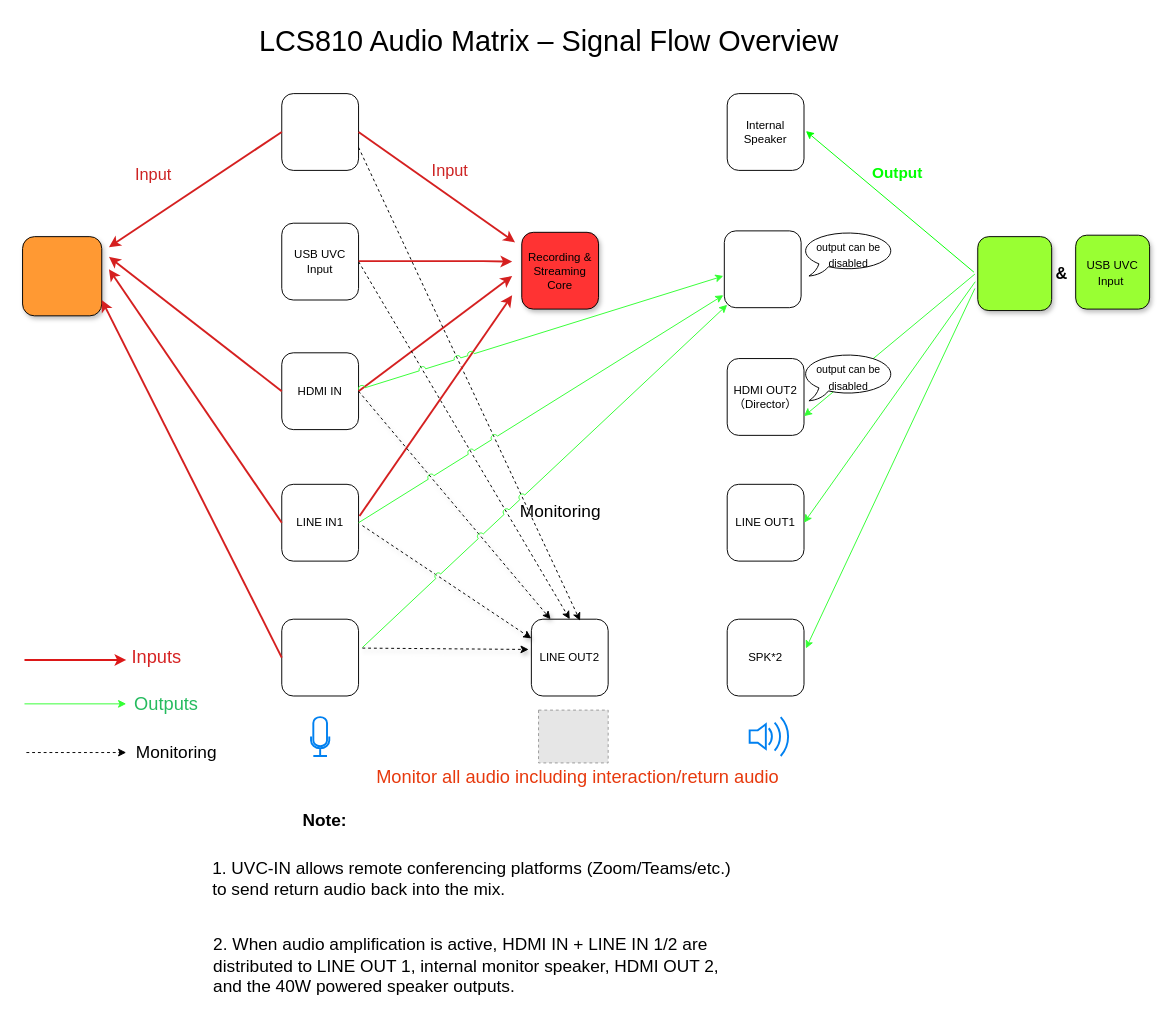
The diagram is 1172 pixels wide and 1014 high, and some of its shapes have lost their labels. Grey dashed boxes stand in for pictures. Each missing label, with the centre of its shape:
"48V Phantom Power Mic Inputs" goes at (x=320, y=131).
"HDMI OUT1 (Program)" goes at (x=762, y=269).
"LINE IN2" goes at (x=320, y=657).
"Local Playback" goes at (x=1015, y=274).
"给远端" goes at (x=63, y=277).
